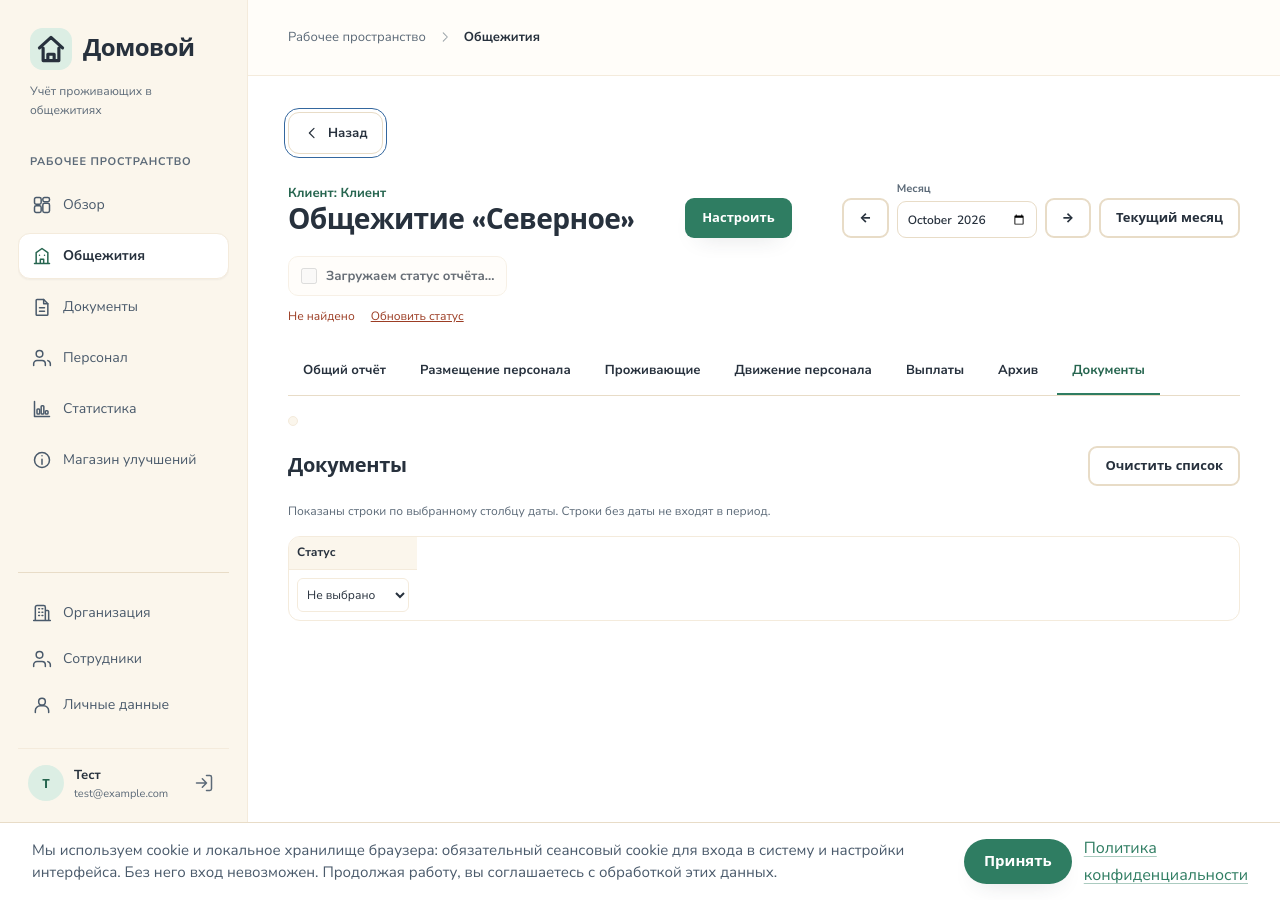
Scenario: переключает месяцы, скрывает ненужные возможности и подтверждает полную очистку
Expected: the dropdown named "Статус, строка 20" is shown, x1=297 y1=578 x2=409 y2=612
Expected: the form named "Период общежития" is shown, x1=842 y1=180 x2=1240 y2=238
Replace the text in the field labelled "Месяц" with "2026-02": (967, 220) x1=897 y1=201 x2=1037 y2=238
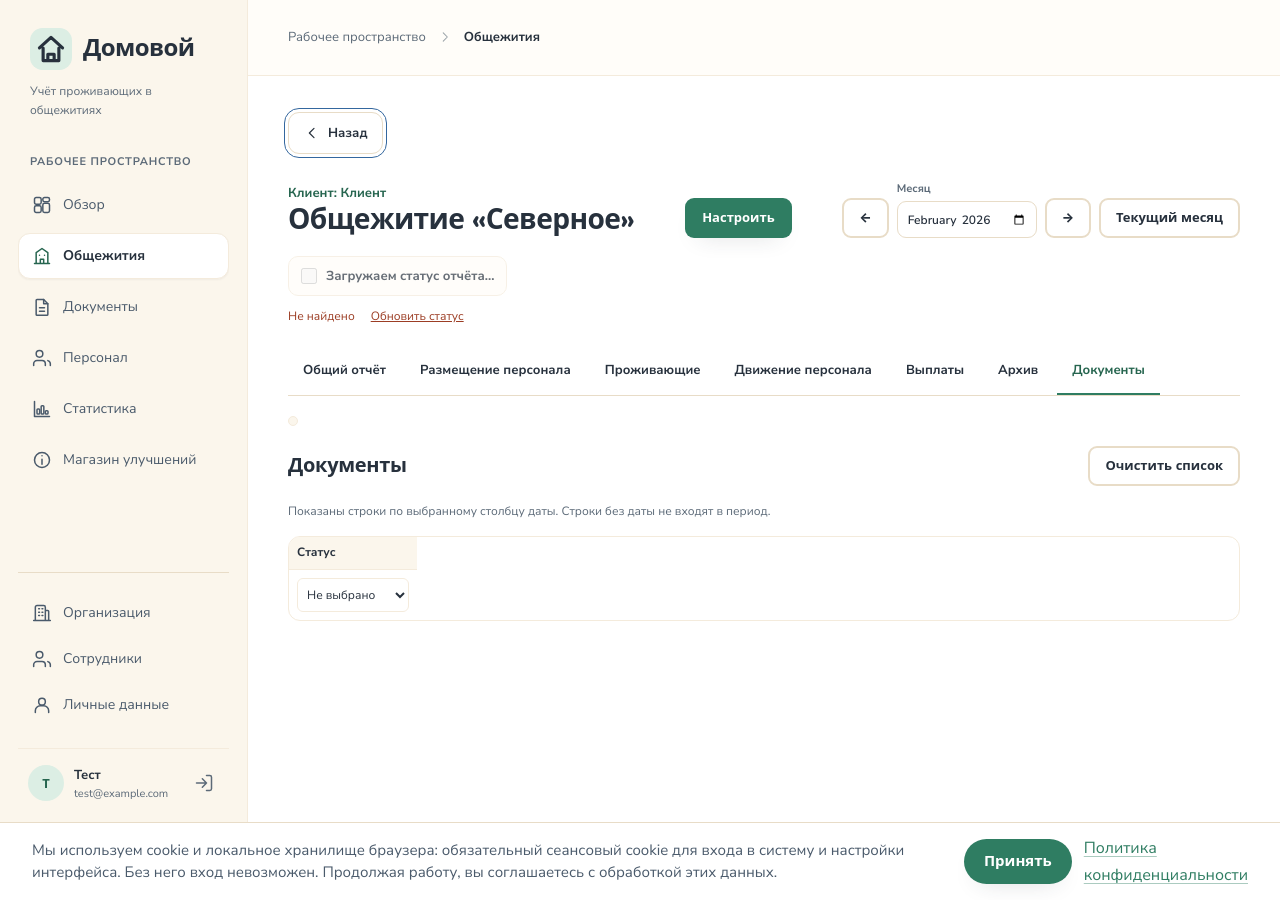
Click the button "Очистить список": (1164, 466) x1=1088 y1=446 x2=1240 y2=486
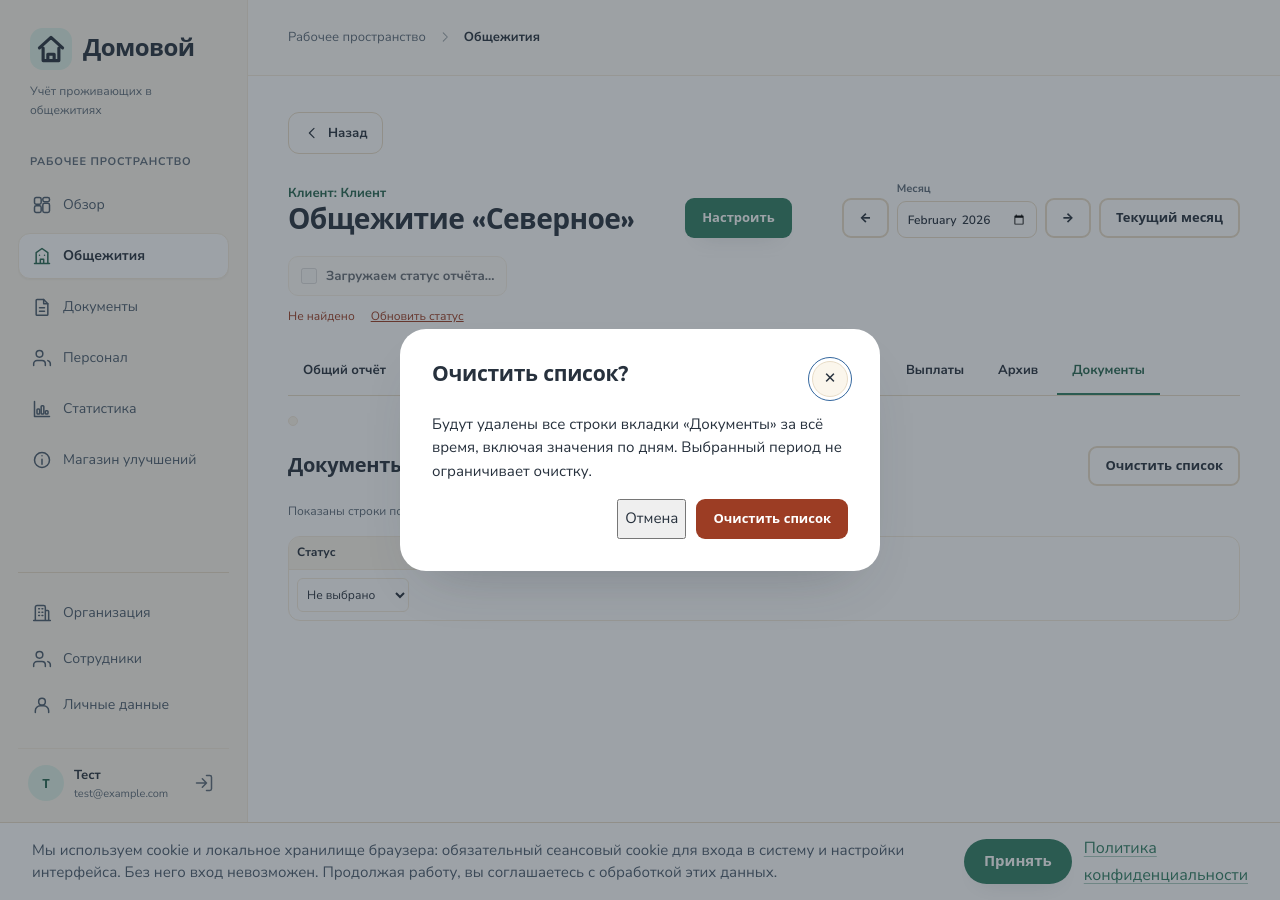
Result: the dialog with test id "clear-custom-tab-modal" shows "за всё время" at x1=432 y1=414 x2=842 y2=480
Click the button "Очистить список": (772, 519) x1=696 y1=499 x2=848 y2=539
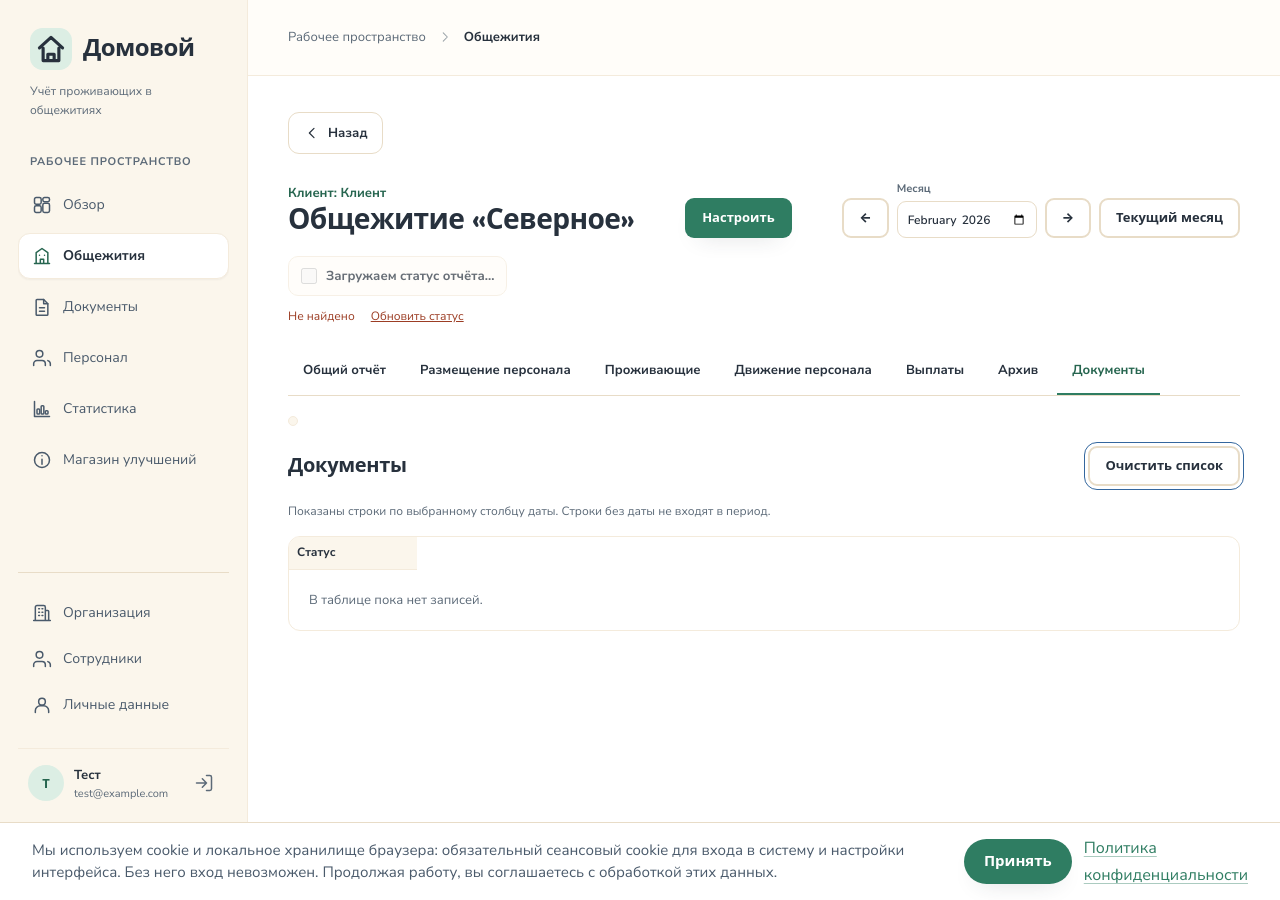
Result: the text "В таблице пока нет записей." is shown at x1=309 y1=591 x2=483 y2=609
